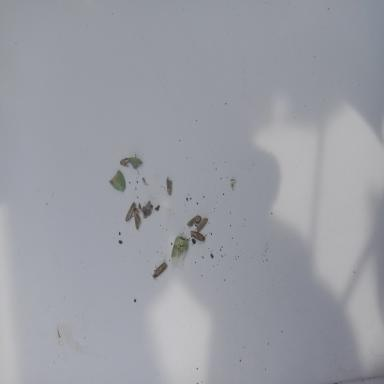pbw: (151, 253, 168, 281), (125, 202, 136, 221), (190, 230, 206, 243), (186, 215, 201, 228), (196, 217, 208, 231), (134, 207, 140, 230), (166, 176, 172, 196)
